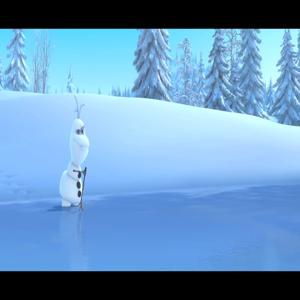olaf: (56, 104, 98, 213)
